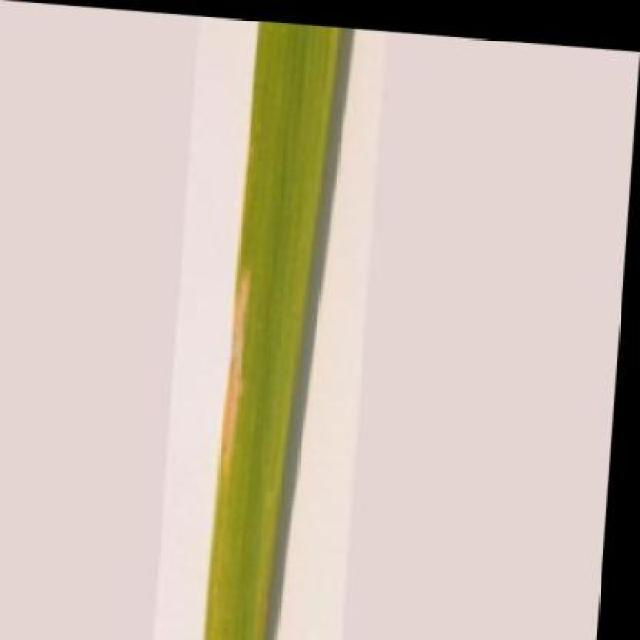Brown_Spot: (210, 15, 347, 640)
